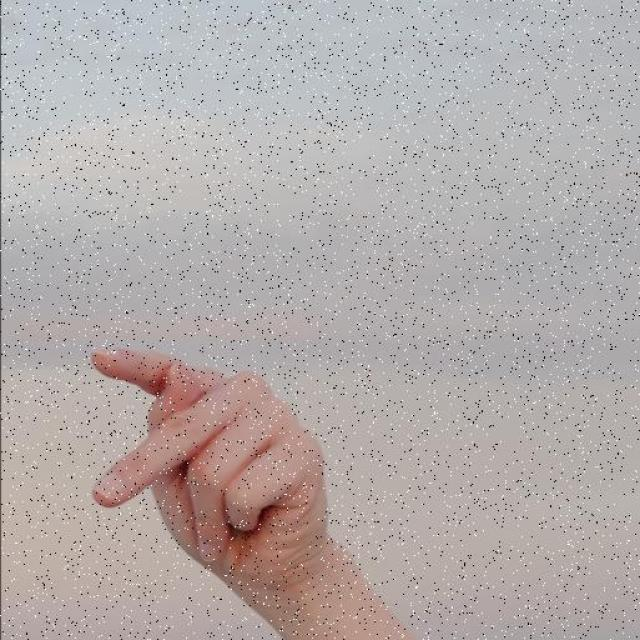P: (45, 308, 390, 622)
